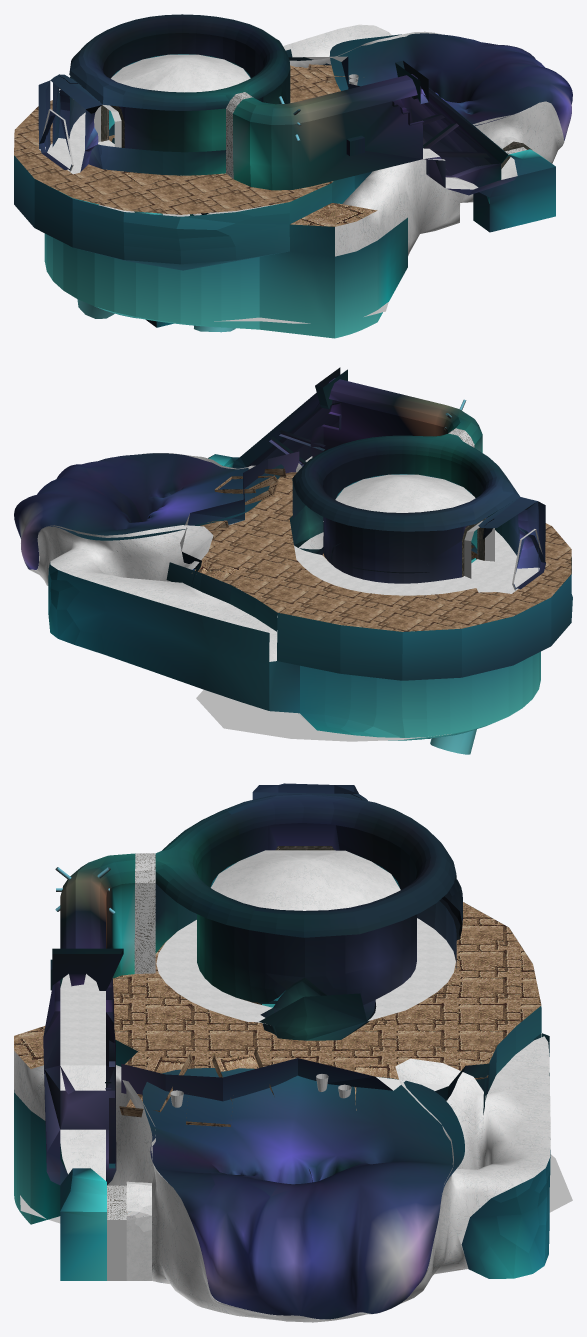
File: mpHD11_model (1).fbx
3 views of the same model, one above another, from view 1: azimuth 30°, elevation 25°; view 2: azimuth 150°, elevation 25°; view 3: azimuth 270°, elevation 25° (orthographic). The views are drawn at different scales.
Visible parts, largest first — view 1: mesh26, mesh24, mesh20, mesh28, mesh10, mesh81, mesh59, mesh79, mesh80, mesh60, mesh61, mesh18 (+19 smaller); view 2: mesh10, mesh31, mesh20, mesh26, mesh24, mesh28, mesh81, mesh79, mesh77, mesh18, mesh80, mesh22 (+13 smaller); view 3: mesh20, mesh10, mesh28, mesh81, mesh79, mesh18, mesh80, mesh77, mesh31, mesh48, mesh78, mesh11 (+20 smaller).
Part boxes in pixels (left/top/right/bottom): mesh26: left=44, top=191, right=407, bottom=338; mesh24: left=14, top=155, right=354, bottom=264; mesh20: left=329, top=33, right=572, bottom=140; mesh28: left=184, top=24, right=564, bottom=256; mesh10: left=14, top=65, right=340, bottom=214; mesh81: left=69, top=14, right=290, bottom=110; mesh59: left=233, top=101, right=424, bottom=166; mesh79: left=69, top=33, right=290, bottom=140; mesh80: left=69, top=85, right=289, bottom=175; mesh60: left=233, top=135, right=422, bottom=190; mesh61: left=233, top=74, right=422, bottom=124; mesh18: left=111, top=54, right=250, bottom=92; mesh10: left=192, top=476, right=571, bottom=631; mesh31: left=48, top=562, right=269, bottom=710; mesh20: left=14, top=453, right=283, bottom=569; mesh26: left=269, top=651, right=540, bottom=737; mesh24: left=277, top=557, right=571, bottom=680; mesh28: left=28, top=453, right=323, bottom=729; mesh81: left=292, top=433, right=520, bottom=531; mesh79: left=292, top=454, right=519, bottom=560; mesh77: left=294, top=521, right=517, bottom=595; mesh18: left=335, top=474, right=475, bottom=512; mesh80: left=323, top=511, right=519, bottom=583; mesh22: left=196, top=690, right=450, bottom=741; mesh20: left=142, top=1068, right=464, bottom=1319; mesh10: left=113, top=902, right=541, bottom=1079; mesh28: left=14, top=1036, right=550, bottom=1322; mesh81: left=155, top=794, right=455, bottom=937; mesh79: left=155, top=823, right=456, bottom=977; mesh18: left=211, top=850, right=400, bottom=910; mesh80: left=155, top=900, right=456, bottom=1004; mesh77: left=156, top=918, right=455, bottom=1023; mesh31: left=461, top=1042, right=550, bottom=1278; mesh48: left=60, top=1065, right=151, bottom=1280; mesh78: left=259, top=792, right=462, bottom=1040; mesh11: left=121, top=1058, right=392, bottom=1101.
Size of the model in its own units: 10127 by 6725 by 4780.
